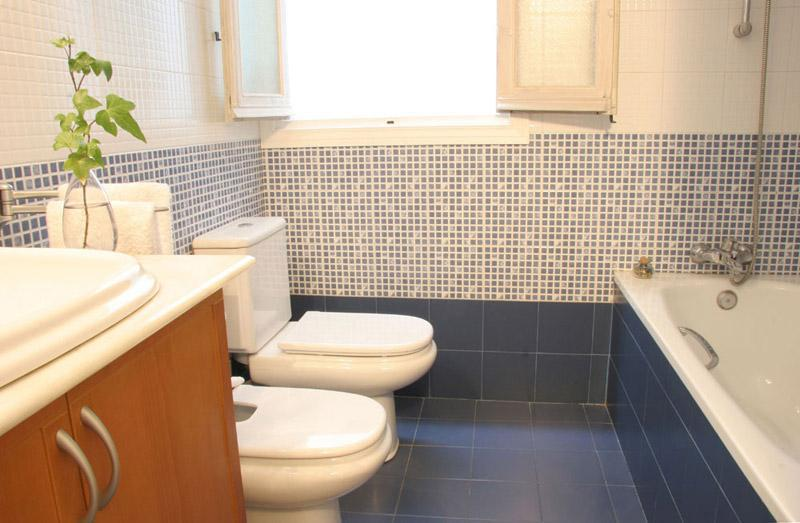Sanitario: (210, 223, 447, 401), (226, 369, 391, 515)
